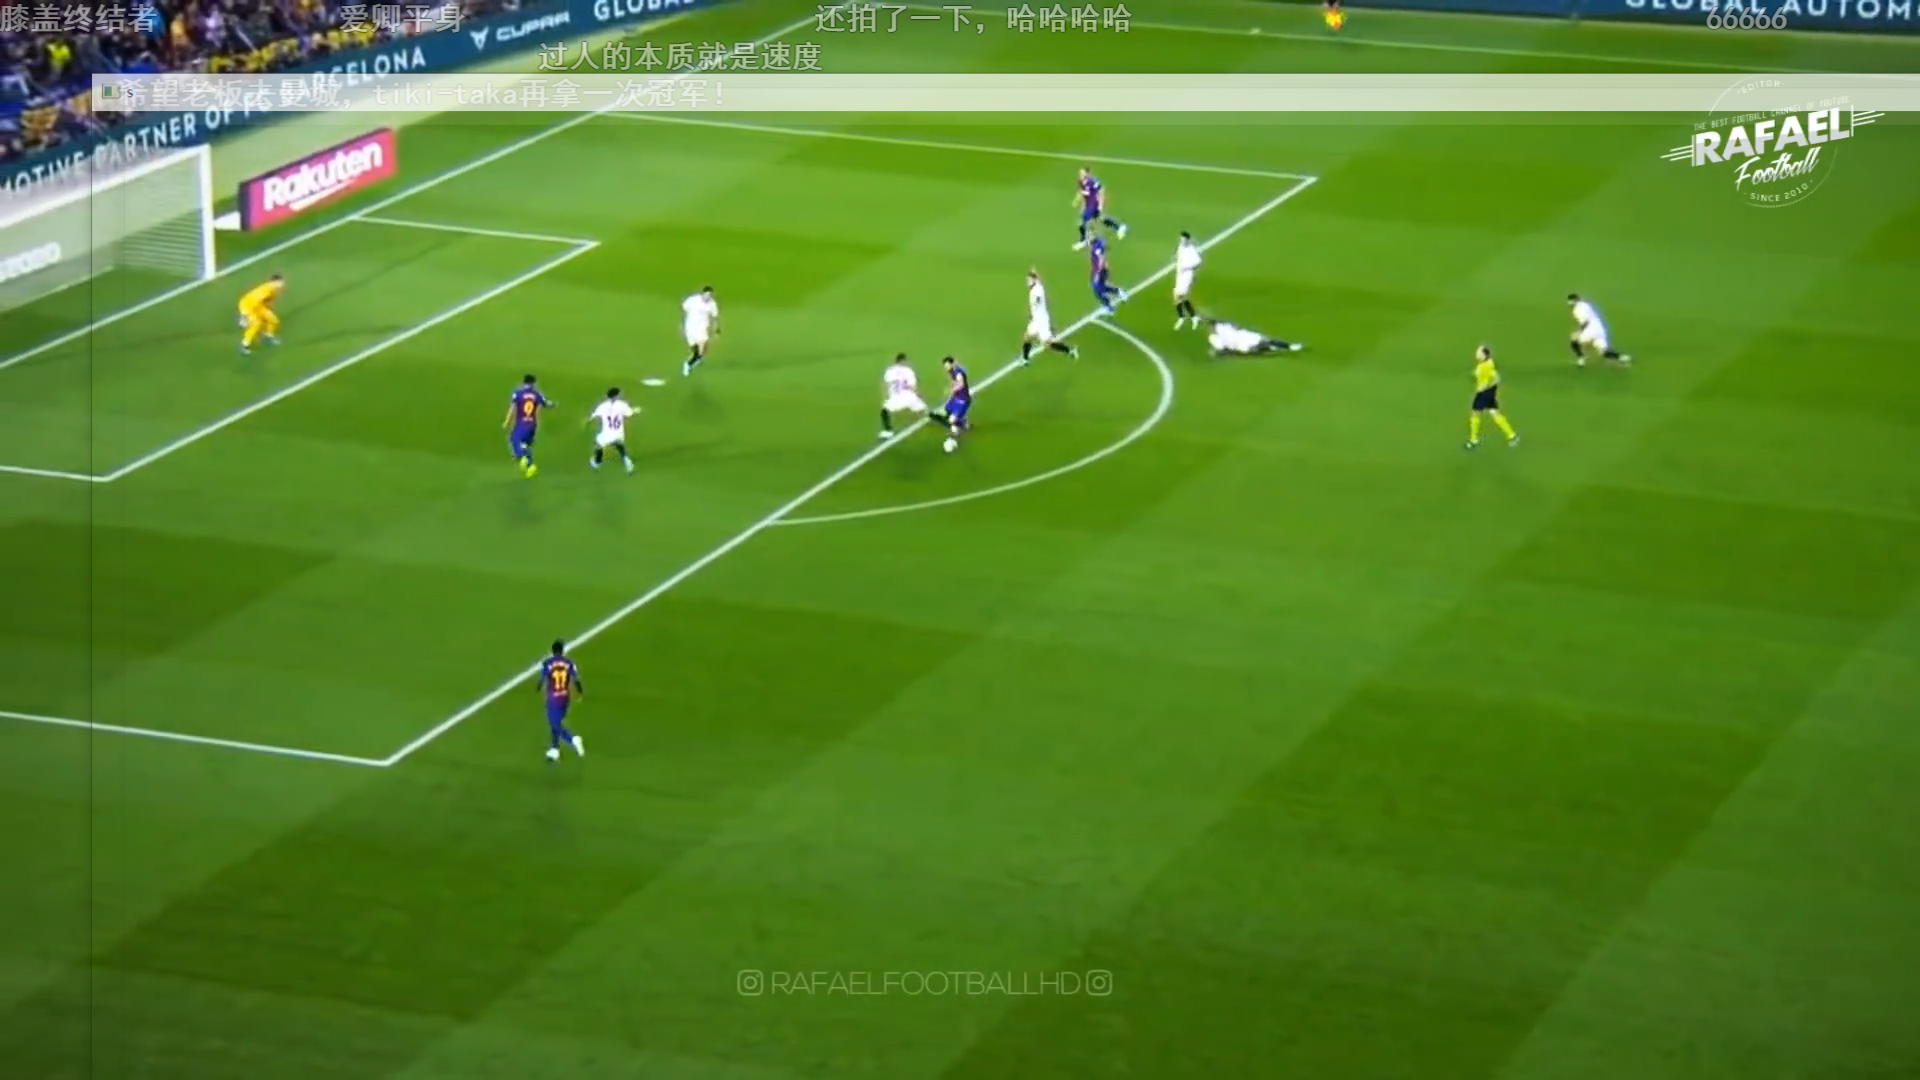ft: (942, 438, 957, 456)
